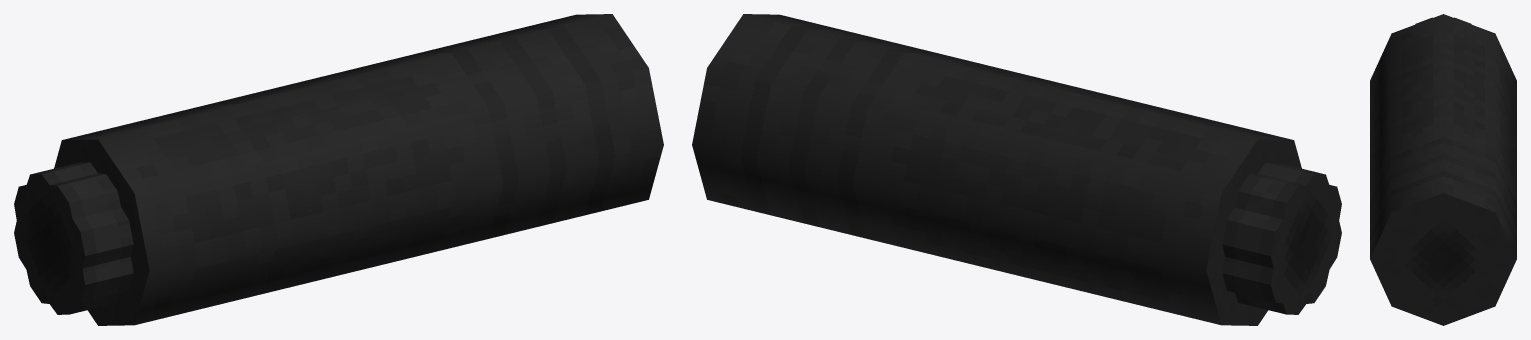
The model's file is suppressor_mp_2.glb.
The picture shows the model from 3 angles, left to right: view 1: azimuth 30°, elevation 25°; view 2: azimuth 150°, elevation 25°; view 3: azimuth 270°, elevation 25°; orthographic projection. The views are drawn at different scales.
Visible parts, largest first — view 1: suppressor_mp_2; view 2: suppressor_mp_2; view 3: suppressor_mp_2.
Boxes of the visible parts, box(x1,y1,x2,y2) form: suppressor_mp_2: box(14, 14, 663, 325); suppressor_mp_2: box(692, 14, 1341, 325); suppressor_mp_2: box(1370, 14, 1516, 325).
Bounding box in the file's own units: 0.139 × 0.044 × 0.044.
1 material, 1 textured.
